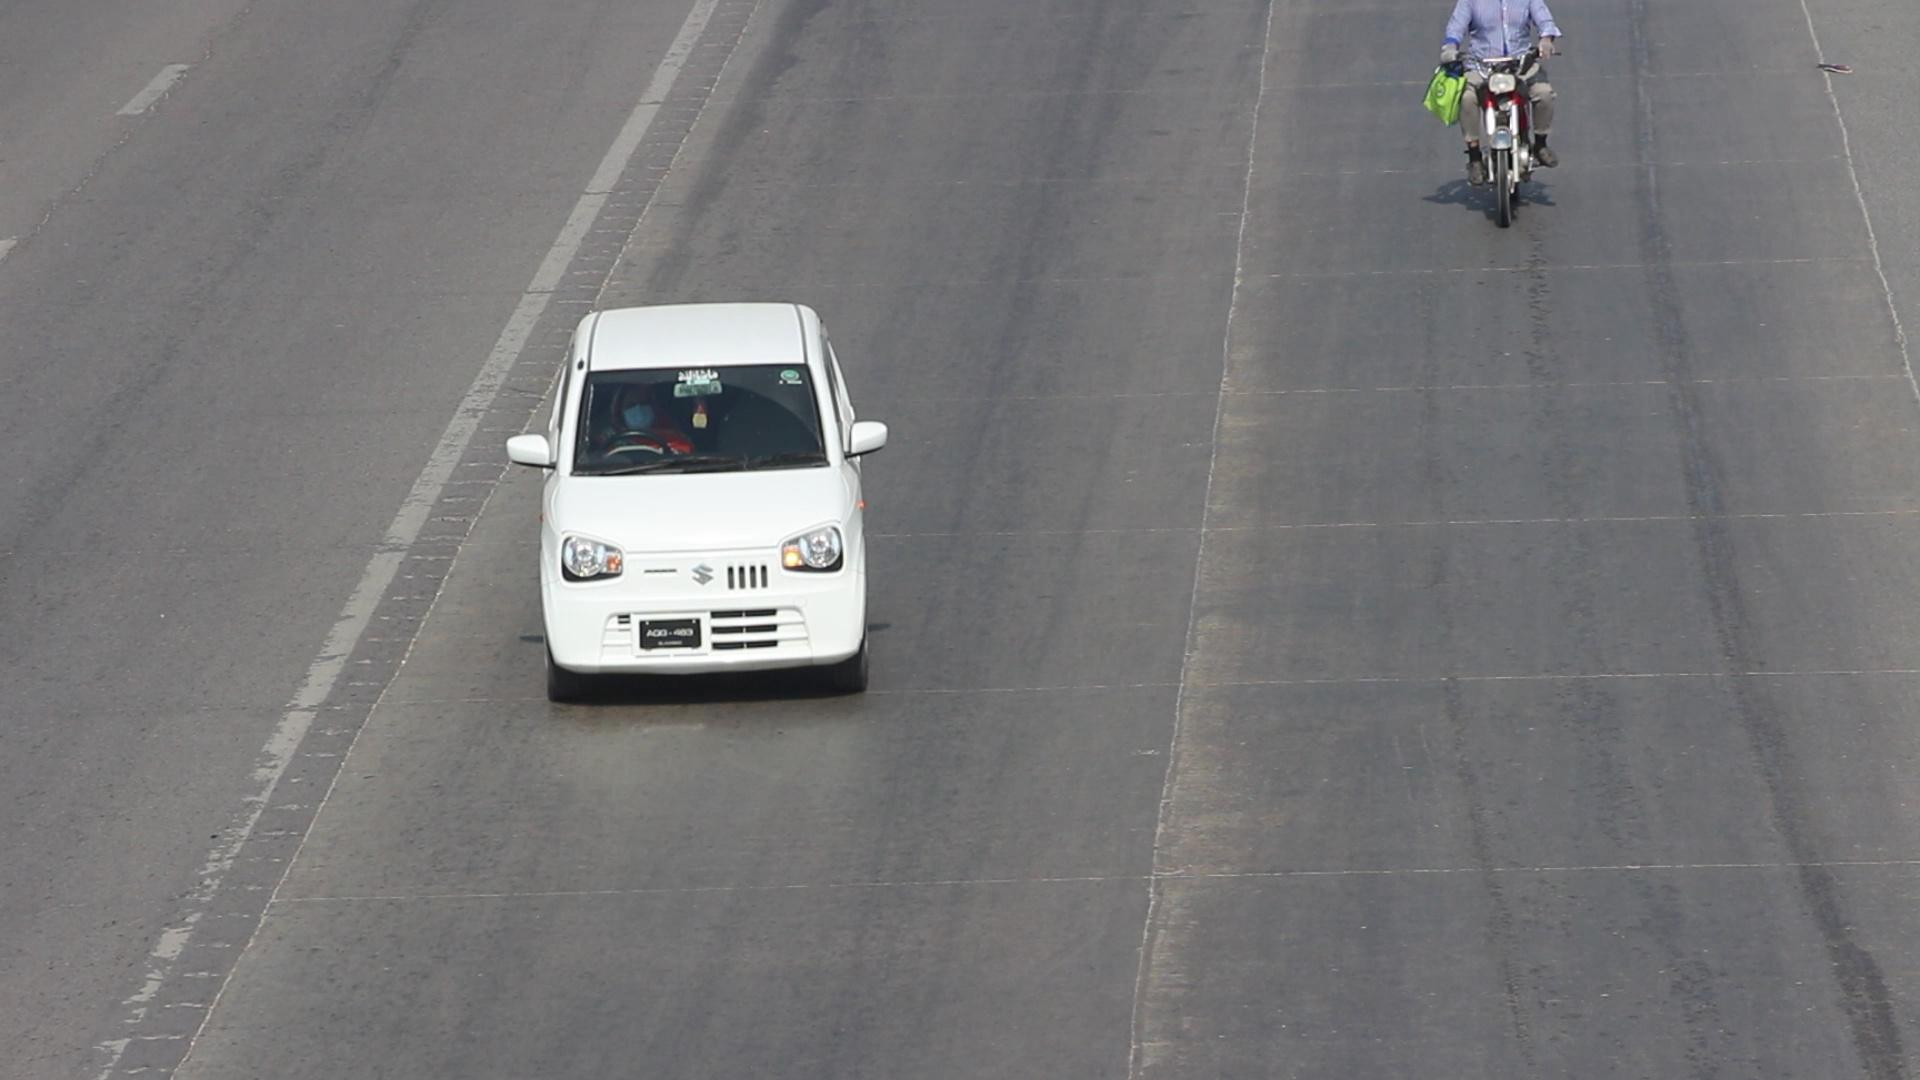windshield: (571, 353, 837, 480)
